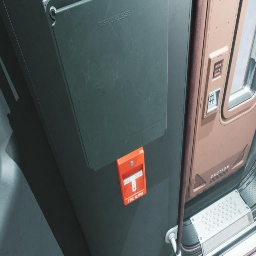FireAlarm ,: (116, 146, 146, 205)
